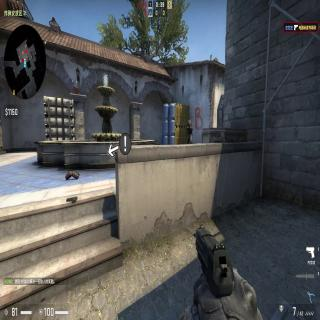T-Body: (186, 118, 193, 144)
T-Head: (188, 118, 191, 124)
